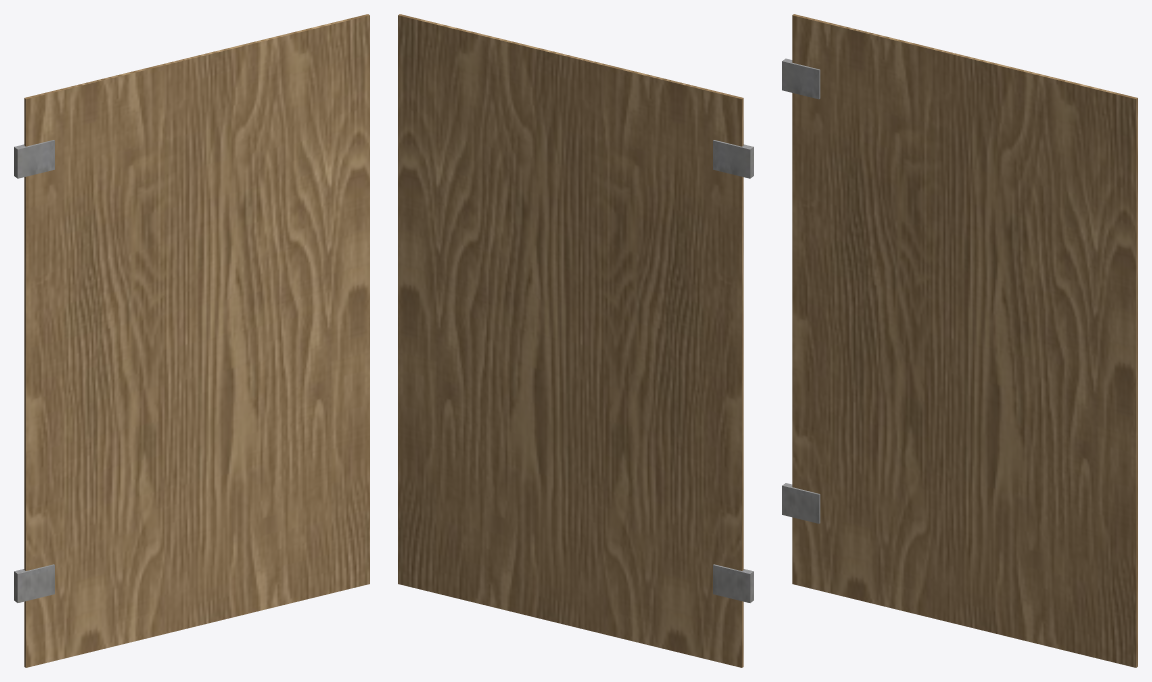
Rendered from ToiletCubicleDoor.glb.
The picture shows the model from 3 angles, left to right: view 1: azimuth 30°, elevation 25°; view 2: azimuth 150°, elevation 25°; view 3: azimuth 330°, elevation 25°; orthographic projection.
Visible parts, largest first — view 1: Cubicles_Door_01; view 2: Cubicles_Door_01; view 3: Cubicles_Door_01.
Part boxes in pixels (left/top/right/bottom): Cubicles_Door_01: left=14, top=14, right=369, bottom=667; Cubicles_Door_01: left=398, top=14, right=753, bottom=667; Cubicles_Door_01: left=782, top=14, right=1137, bottom=667.
Bounding box in the file's own units: 1.59 × 2.45 × 0.0295.
Materials: 2 (2 with a texture image).
